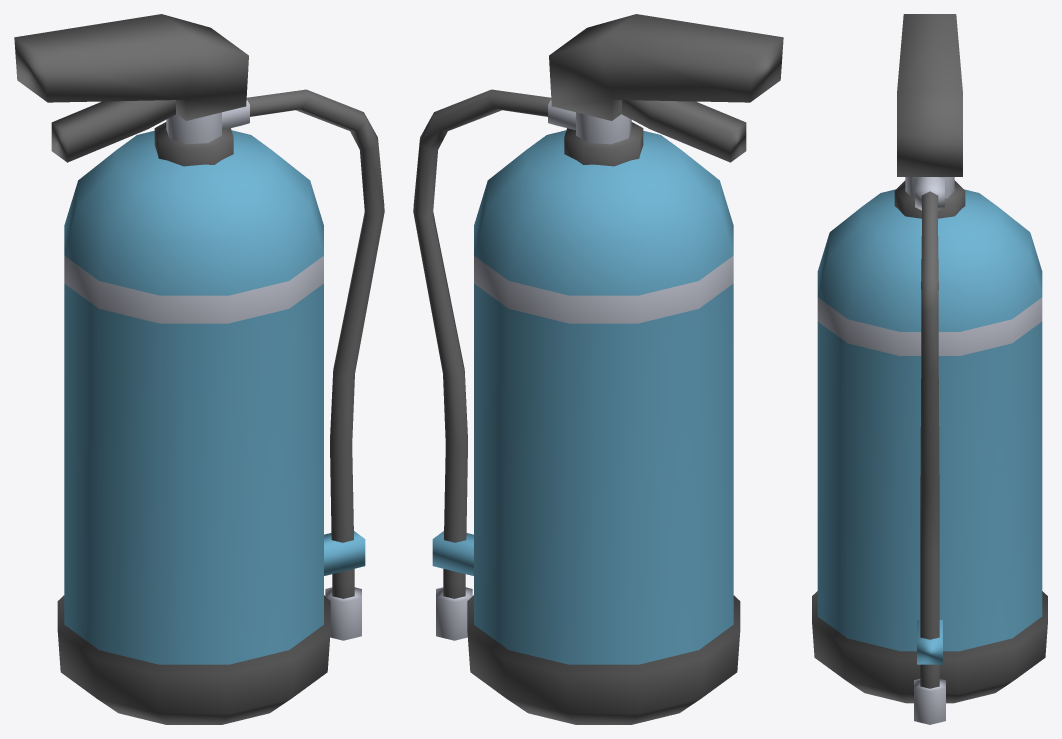
The model's file is extinguisher_01.glb.
The picture shows the model from 3 angles, left to right: view 1: azimuth 30°, elevation 25°; view 2: azimuth 150°, elevation 25°; view 3: azimuth 270°, elevation 25°; orthographic projection. The views are drawn at different scales.
Visible parts, largest first — view 1: mesh_extinguisher_01; view 2: mesh_extinguisher_01; view 3: mesh_extinguisher_01.
Part boxes in pixels (x1,y1,x2,y2): mesh_extinguisher_01: [14, 14, 384, 724]; mesh_extinguisher_01: [413, 14, 783, 724]; mesh_extinguisher_01: [812, 14, 1047, 724].
Bounding box in the file's own units: 0.5504 × 0.9976 × 0.3665.
